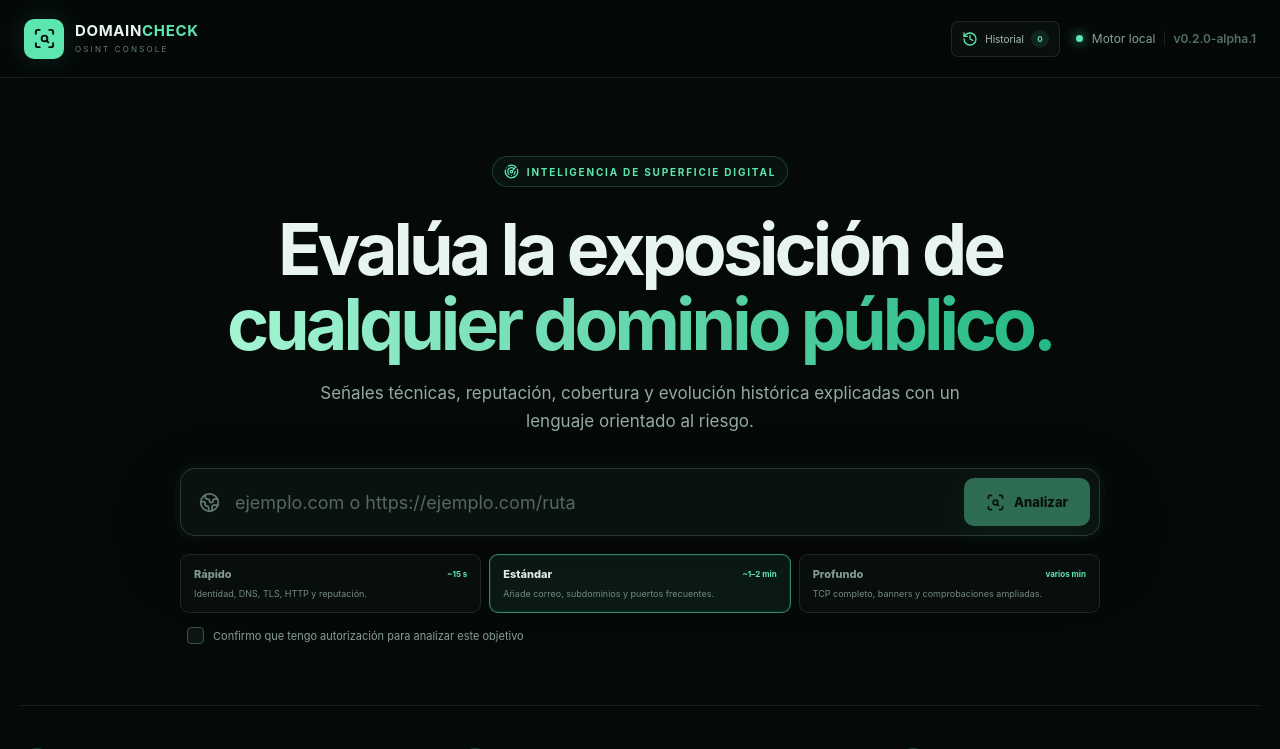
Test: App › previews the normalized hostname for a full URL
Type "https://example.com/path" into the field named "Dominio o URL".
click(592, 502); type("https://example.com/path")  # box x1=233 y1=491 x2=951 y2=514
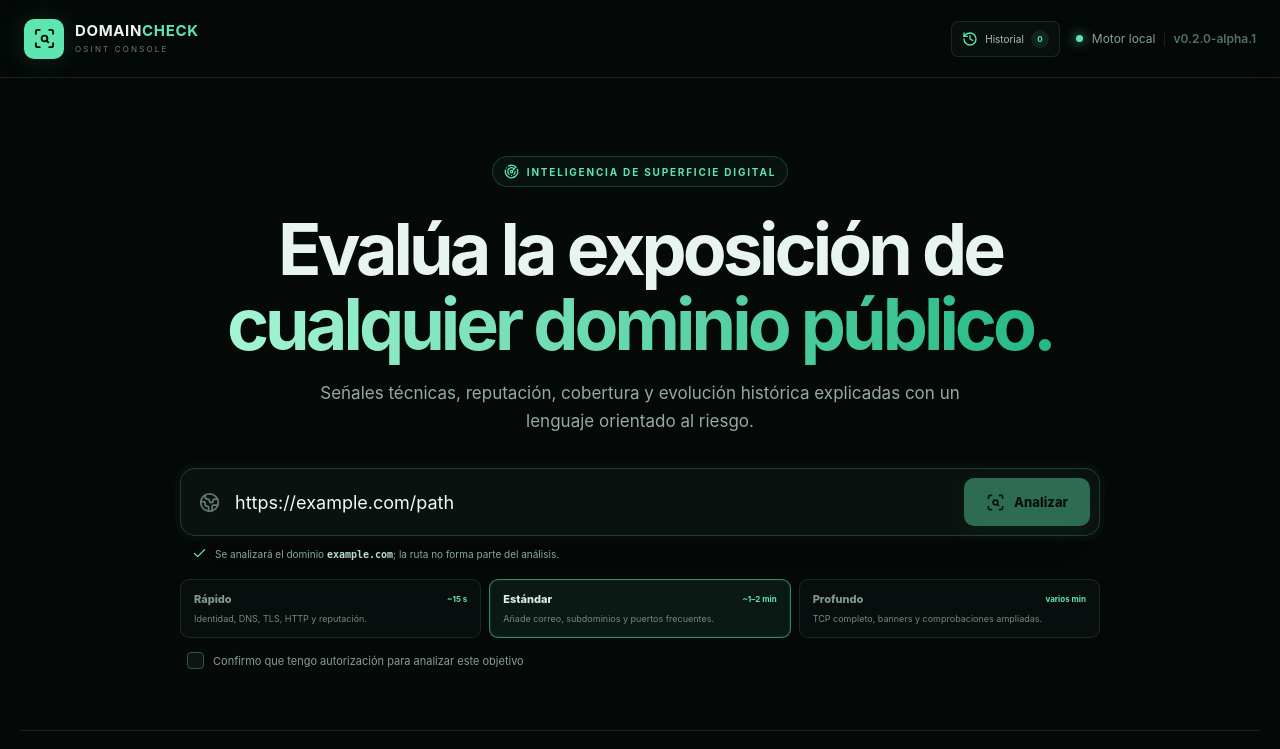
Check: the text "la ruta no forma parte" shows "example.com", box x1=327 y1=549 x2=393 y2=560
